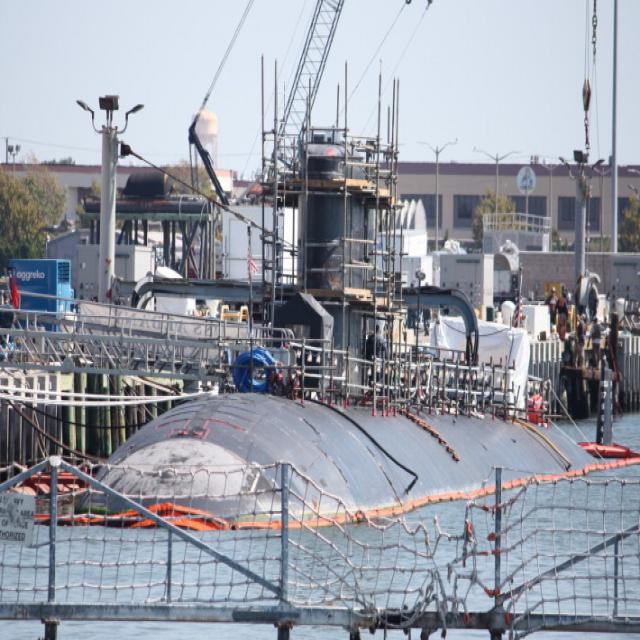submarine: (64, 139, 618, 519)
